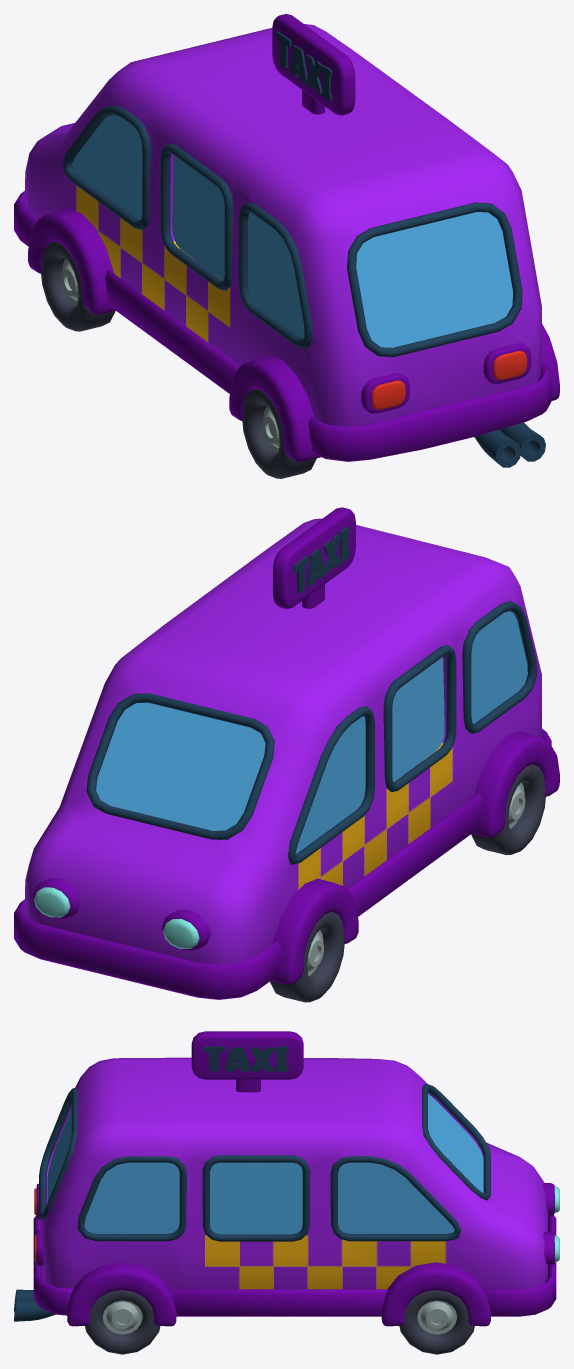
File: taxi_tier2.fbx
3 views of the same model, one above another, from view 1: azimuth 30°, elevation 25°; view 2: azimuth 150°, elevation 25°; view 3: azimuth 270°, elevation 25° (orthographic). The views are drawn at different scales.
Visible parts, largest first — view 1: Cube.017, Cube.019, Cube.018, Cylinder.016, Cylinder.019, Cube.016, Cylinder.018, Cylinder.015, Cube.021, Cube.022, Text.004, Cylinder.020 (+1 smaller); view 2: Cube.017, Cube.018, Cube.019, Cylinder.016, Cylinder.019, Cube.016, Cylinder.018, Cylinder.015, Cylinder.011, Text.004, Cylinder.008; view 3: Cube.017, Cube.018, Cube.019, Cube.016, Cylinder.019, Cylinder.016, Cylinder.015, Cylinder.018, Text.005, Cylinder.008, Cylinder.017.
Boxes of the visible parts, x1,y1,x2,y2 form: Cube.017: (25,24,541,426); Cube.019: (14,191,551,461); Cube.018: (62,105,522,357); Cylinder.016: (229,324,559,461); Cylinder.019: (28,208,115,314); Cube.016: (272,14,355,115); Cylinder.018: (41,241,115,331); Cylinder.015: (242,389,316,478); Cube.021: (361,343,531,413); Cube.022: (371,351,527,409); Text.004: (275,31,332,100); Cylinder.020: (474,429,521,467); Cube.017: (25,518,541,964); Cube.018: (86,601,536,864); Cube.019: (14,729,551,999); Cylinder.016: (472,731,559,837); Cylinder.019: (271,878,358,984); Cube.016: (273,507,355,608); Cylinder.018: (270,911,344,1002); Cylinder.015: (471,764,545,854); Cylinder.011: (34,887,199,948); Text.004: (293,526,349,593); Cylinder.008: (32,878,210,950); Cube.017: (42,1057,547,1289); Cube.018: (39,1084,490,1241); Cube.019: (33,1215,556,1316); Cube.016: (191,1031,303,1079); Cylinder.019: (381,1262,490,1326); Cylinder.016: (67,1262,176,1326); Cylinder.015: (85,1290,160,1354); Cylinder.018: (399,1290,474,1354); Text.005: (203,1046,288,1072); Cylinder.008: (543,1183,554,1265); Cylinder.017: (14,1299,55,1321).
Size of the model in its own units: 851 by 1073 by 1936.
